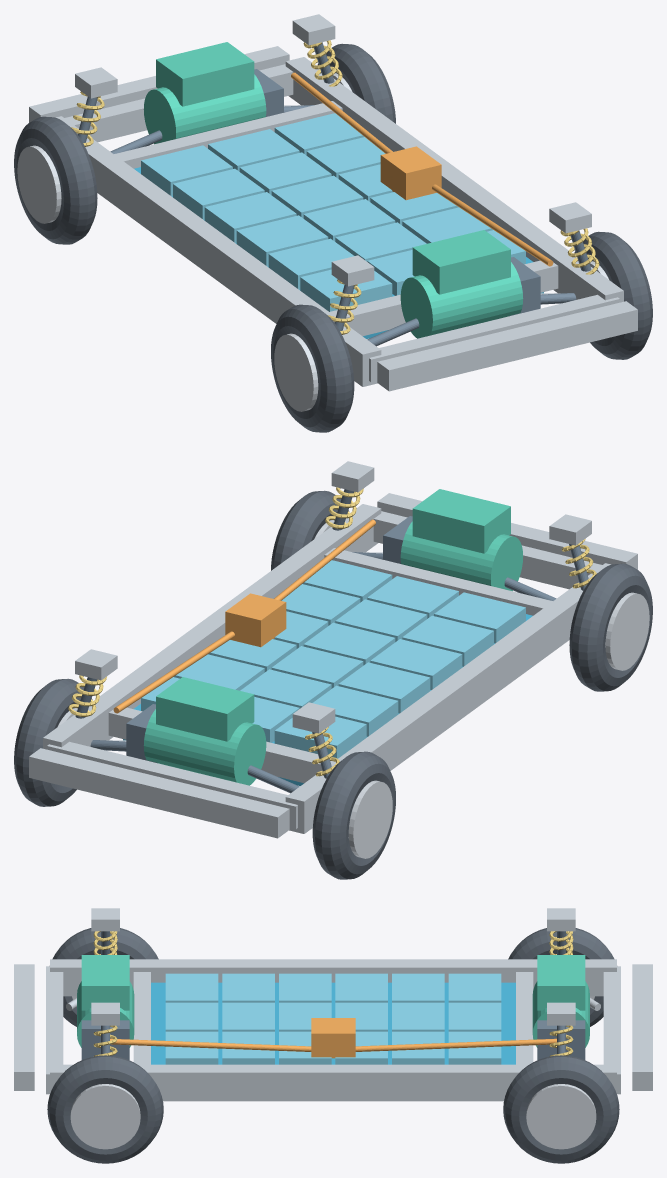
File: EV_Skateboard_Education.glb
3 views of the same model, one above another, from view 1: azimuth 30°, elevation 25°; view 2: azimuth 150°, elevation 25°; view 3: azimuth 270°, elevation 25° (orthographic). The views are drawn at different scales.
Parts seen in each view (by area): view 1: Longitudinal_Rail_-0.78, Longitudinal_Rail_0.78, Front_Bumper, Rear_Left_Tire, Front_Left_Tire, Front_Motor, Front_Inverter, Rear_Inverter, Rear_Motor, Front_Right_Tire, Crossmember_1.75, Crossmember_-1.2 (+32 smaller); view 2: Longitudinal_Rail_-0.78, Longitudinal_Rail_0.78, Rear_Bumper, Front_Left_Tire, Rear_Left_Tire, Rear_Motor, Rear_Inverter, Front_Inverter, Front_Motor, Rear_Right_Tire, Crossmember_-1.75, Crossmember_1.2 (+32 smaller); view 3: Longitudinal_Rail_0.78, Longitudinal_Rail_-0.78, Front_Right_Tire, Rear_Right_Tire, Battery_Tray, Front_Right_Rim, Rear_Right_Rim, Front_Bumper, Rear_Bumper, Front_Inverter, Rear_Inverter, Rear_Left_Tire (+34 smaller).
Boxes of the visible parts, x1=… form: Longitudinal_Rail_-0.78: x1=56, y1=116, x2=381, y2=386; Longitudinal_Rail_0.78: x1=285, y1=57, x2=623, y2=302; Front_Bumper: x1=377, y1=301, x2=637, y2=391; Rear_Left_Tire: x1=14, y1=116, x2=97, y2=244; Front_Left_Tire: x1=271, y1=304, x2=354, y2=432; Front_Motor: x1=400, y1=262, x2=523, y2=338; Front_Inverter: x1=412, y1=230, x2=510, y2=294; Rear_Inverter: x1=156, y1=42, x2=254, y2=106; Rear_Motor: x1=143, y1=74, x2=266, y2=144; Front_Right_Tire: x1=574, y1=231, x2=652, y2=359; Crossmember_1.75: x1=369, y1=294, x2=619, y2=382; Crossmember_-1.2: x1=114, y1=101, x2=342, y2=168; Longitudinal_Rail_-0.78: x1=285, y1=563, x2=610, y2=833; Longitudinal_Rail_0.78: x1=43, y1=504, x2=381, y2=749; Rear_Bumper: x1=29, y1=748, x2=289, y2=838; Front_Left_Tire: x1=569, y1=563, x2=652, y2=691; Rear_Left_Tire: x1=312, y1=751, x2=395, y2=879; Rear_Motor: x1=143, y1=709, x2=266, y2=785; Rear_Inverter: x1=156, y1=677, x2=254, y2=741; Front_Inverter: x1=412, y1=489, x2=510, y2=553; Front_Motor: x1=400, y1=521, x2=523, y2=591; Rear_Right_Tire: x1=14, y1=678, x2=92, y2=806; Crossmember_-1.75: x1=47, y1=741, x2=297, y2=829; Crossmember_1.2: x1=324, y1=548, x2=552, y2=615; Longitudinal_Rail_0.78: x1=50, y1=1064, x2=616, y2=1101; Longitudinal_Rail_-0.78: x1=50, y1=959, x2=616, y2=996; Front_Right_Tire: x1=47, y1=1055, x2=163, y2=1163; Rear_Right_Tire: x1=503, y1=1055, x2=619, y2=1163; Battery_Tray: x1=151, y1=982, x2=515, y2=1064; Front_Right_Rim: x1=70, y1=1084, x2=140, y2=1149; Rear_Right_Rim: x1=526, y1=1084, x2=596, y2=1149; Front_Bumper: x1=14, y1=964, x2=34, y2=1090; Rear_Bumper: x1=632, y1=964, x2=652, y2=1090; Front_Inverter: x1=81, y1=955, x2=129, y2=1010; Rear_Inverter: x1=537, y1=955, x2=585, y2=1010; Rear_Left_Tire: x1=508, y1=928, x2=614, y2=1026.
Size of the model in its own units: 2.16 by 0.945 by 4.01.
